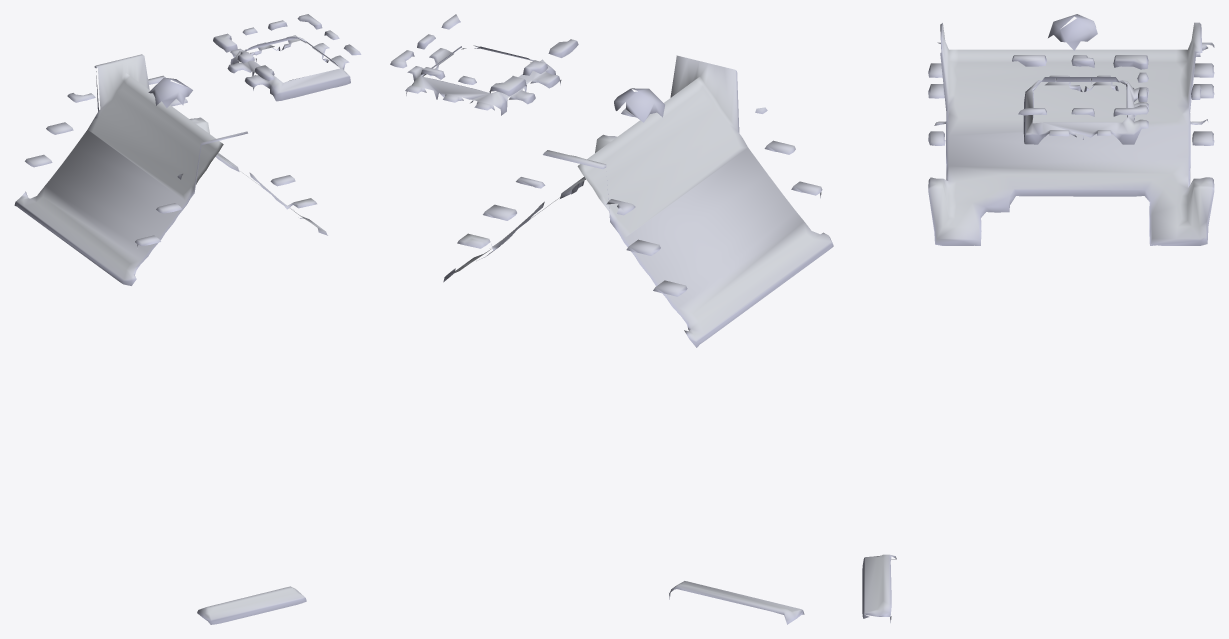
Rendered from category.lending.l.snow.glb.
3 views of the same model, side by side, from view 1: azimuth 30°, elevation 25°; view 2: azimuth 150°, elevation 25°; view 3: azimuth 270°, elevation 25° (orthographic). The views are drawn at different scales.
Parts seen in each view (by area): view 1: snow, tier.6; view 2: snow, tier.6; view 3: snow, tier.6.
Part boxes in pixels (box(x1,y1,x2,y2)): snow: box(14, 14, 361, 624); tier.6: box(148, 77, 192, 107); snow: box(390, 14, 833, 624); tier.6: box(614, 88, 664, 122); snow: box(862, 22, 1214, 623); tier.6: box(1048, 14, 1097, 50).
Bounding box in the file's own units: 8.31 × 14.03 × 7.66.
